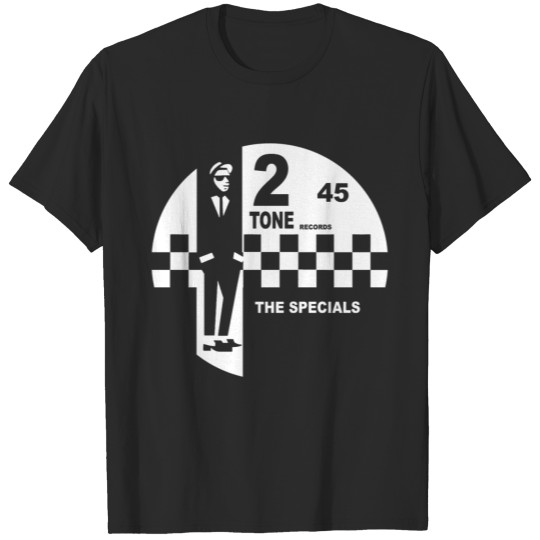design: (147, 140, 391, 379)
